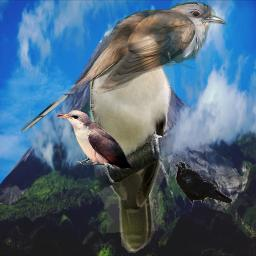Crow: (174, 161, 232, 203)
Cuckoo: (21, 1, 227, 134), (90, 18, 190, 254), (57, 110, 133, 169)
